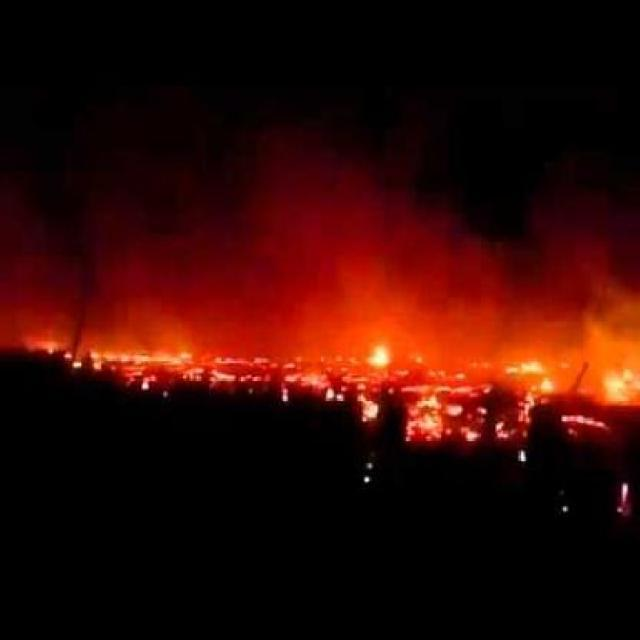Fire: (10, 333, 640, 465)
